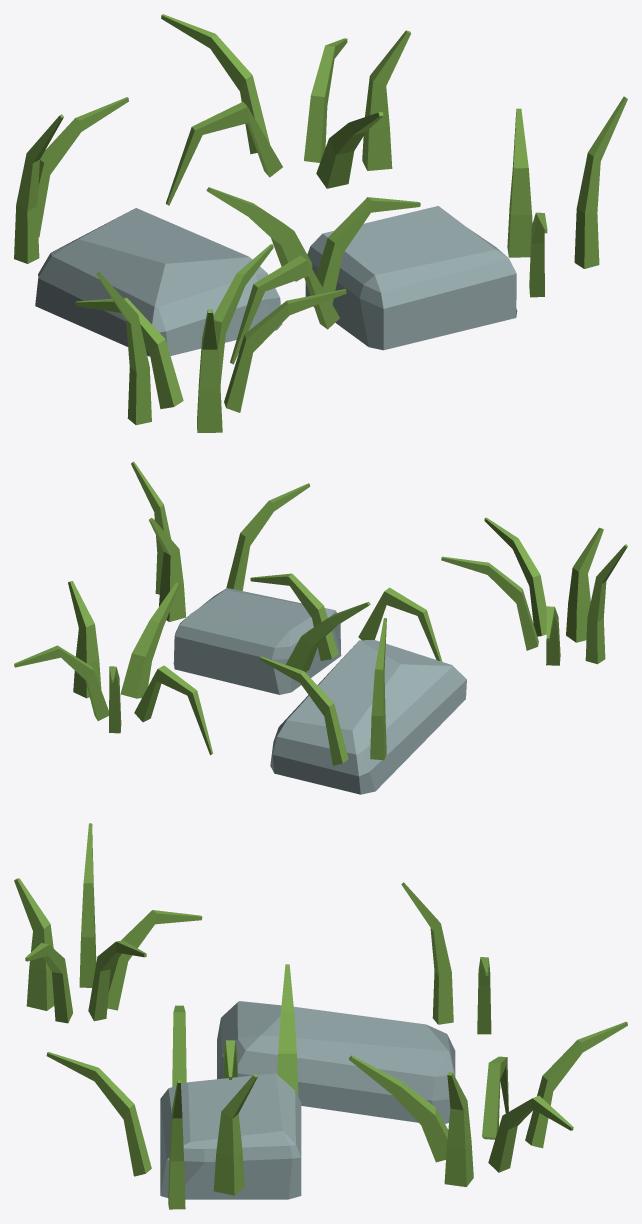
Rendered from herbe3.fbx.
3 renders of one model, top to bottom at view 1: azimuth 30°, elevation 25°; view 2: azimuth 150°, elevation 25°; view 3: azimuth 270°, elevation 25°, orthographic. The views are drawn at different scales.
Parts seen in each view (by area): view 1: pCube52, pCube53, pCube58, pCube64, pCube66, pCube67, pCube70, pCube59, pCube62, pCube54, pCube55, pCube69 (+8 smaller); view 2: pCube53, pCube52, pCube63, pCube68, pCube65, pCube57, pCube64, pCube70, pCube62, pCube59, pCube67, pCube71 (+8 smaller); view 3: pCube53, pCube52, pCube59, pCube57, pCube64, pCube63, pCube68, pCube61, pCube66, pCube60, pCube70, pCube69 (+8 smaller).
Part boxes in pixels (x1=…): pCube52: x1=305, y1=206, x2=517, y2=350; pCube53: x1=35, y1=208, x2=282, y2=356; pCube58: x1=574, y1=96, x2=627, y2=268; pCube64: x1=362, y1=30, x2=410, y2=170; pCube66: x1=14, y1=114, x2=63, y2=263; pCube67: x1=224, y1=289, x2=346, y2=412; pCube70: x1=96, y1=272, x2=151, y2=425; pCube59: x1=507, y1=108, x2=532, y2=257; pCube62: x1=166, y1=102, x2=282, y2=205; pCube54: x1=230, y1=255, x2=339, y2=364; pCube55: x1=310, y1=197, x2=420, y2=304; pCube69: x1=75, y1=297, x2=183, y2=409; pCube53: x1=270, y1=640, x2=466, y2=794; pCube52: x1=173, y1=588, x2=341, y2=694; pCube63: x1=120, y1=582, x2=179, y2=698; pCube68: x1=566, y1=527, x2=603, y2=642; pCube65: x1=260, y1=656, x2=348, y2=765; pCube57: x1=226, y1=483, x2=310, y2=590; pCube64: x1=68, y1=581, x2=101, y2=698; pCube70: x1=585, y1=544, x2=627, y2=664; pCube62: x1=134, y1=665, x2=212, y2=755; pCube59: x1=149, y1=518, x2=186, y2=621; pCube67: x1=484, y1=517, x2=546, y2=636; pCube71: x1=441, y1=556, x2=538, y2=650; pCube53: x1=217, y1=1001, x2=455, y2=1123; pCube52: x1=160, y1=1073, x2=301, y2=1199; pCube59: x1=213, y1=1074, x2=257, y2=1195; pCube57: x1=46, y1=1052, x2=151, y2=1176; pCube64: x1=444, y1=1072, x2=473, y2=1186; pCube63: x1=349, y1=1055, x2=448, y2=1162; pCube68: x1=14, y1=878, x2=54, y2=1010; pCube61: x1=525, y1=1021, x2=627, y2=1148; pCube66: x1=401, y1=882, x2=453, y2=1024; pCube60: x1=488, y1=1095, x2=573, y2=1172; pCube70: x1=79, y1=823, x2=96, y2=987; pCube69: x1=107, y1=910, x2=202, y2=1010.
Bounding box in the file's own units: 96.8 × 32.89 × 97.12.
